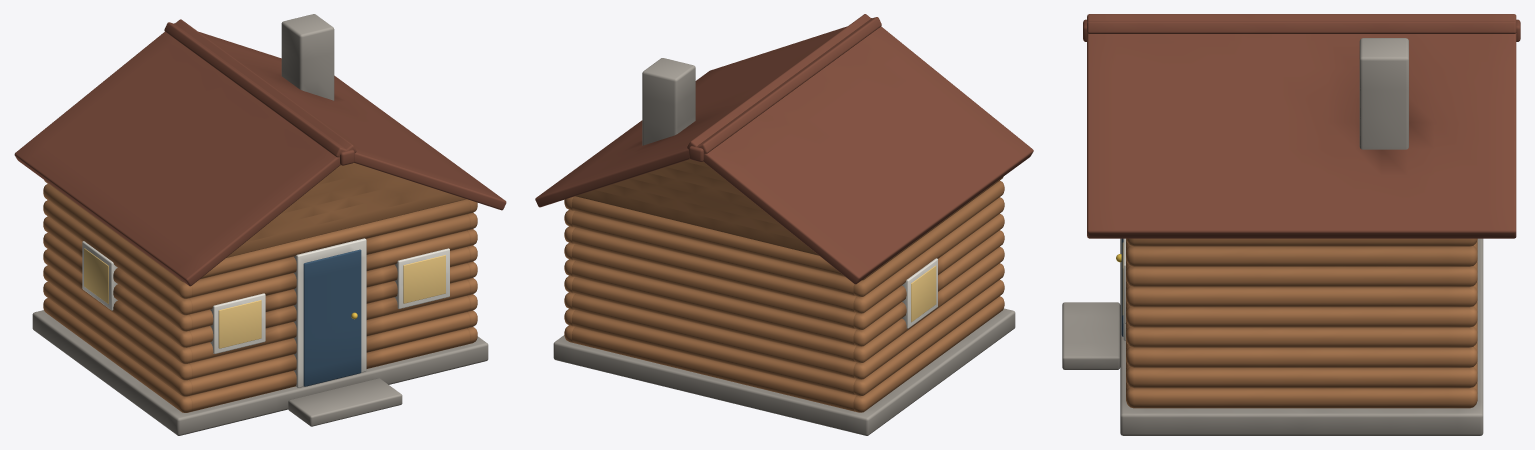
File: cabin.glb
3 views of the same model, side by side, from view 1: azimuth 30°, elevation 25°; view 2: azimuth 150°, elevation 25°; view 3: azimuth 270°, elevation 25° (orthographic). The views are drawn at different scales.
Visible parts, largest first — view 1: walls, roof, roof.001, base, gable, Door, chimney, step, doorframe, Window, Window.001, winframe (+3 smaller); view 2: walls, roof, roof.001, base, gable.001, chimney, Window.002, sidewin; view 3: roof.001, walls, base, chimney, roof, step.
Boxes of the visible parts, bbox=[...] form: walls: bbox=[43, 180, 477, 412]; roof: bbox=[14, 19, 356, 286]; roof.001: bbox=[164, 22, 506, 210]; base: bbox=[32, 310, 488, 435]; gable: bbox=[226, 163, 466, 257]; Door: bbox=[303, 249, 361, 386]; chimney: bbox=[281, 14, 334, 100]; step: bbox=[288, 378, 402, 426]; doorframe: bbox=[294, 238, 366, 387]; Window: bbox=[218, 300, 261, 348]; Window.001: bbox=[403, 255, 445, 303]; winframe: bbox=[210, 293, 265, 353]; walls: bbox=[564, 177, 1004, 412]; roof: bbox=[687, 14, 1033, 284]; roof.001: bbox=[535, 17, 881, 207]; base: bbox=[553, 308, 1015, 435]; gable.001: bbox=[575, 159, 819, 255]; chimney: bbox=[642, 58, 695, 145]; Window.002: bbox=[911, 265, 936, 322]; sidewin: bbox=[902, 258, 937, 328]; roof.001: bbox=[1087, 14, 1516, 238]; walls: bbox=[1126, 238, 1477, 408]; base: bbox=[1120, 238, 1483, 435]; chimney: bbox=[1359, 38, 1408, 149]; roof: bbox=[1087, 21, 1516, 33]; step: bbox=[1062, 302, 1120, 369].
Size of the model in its own units: 5.56 by 4.6 by 5.55.
